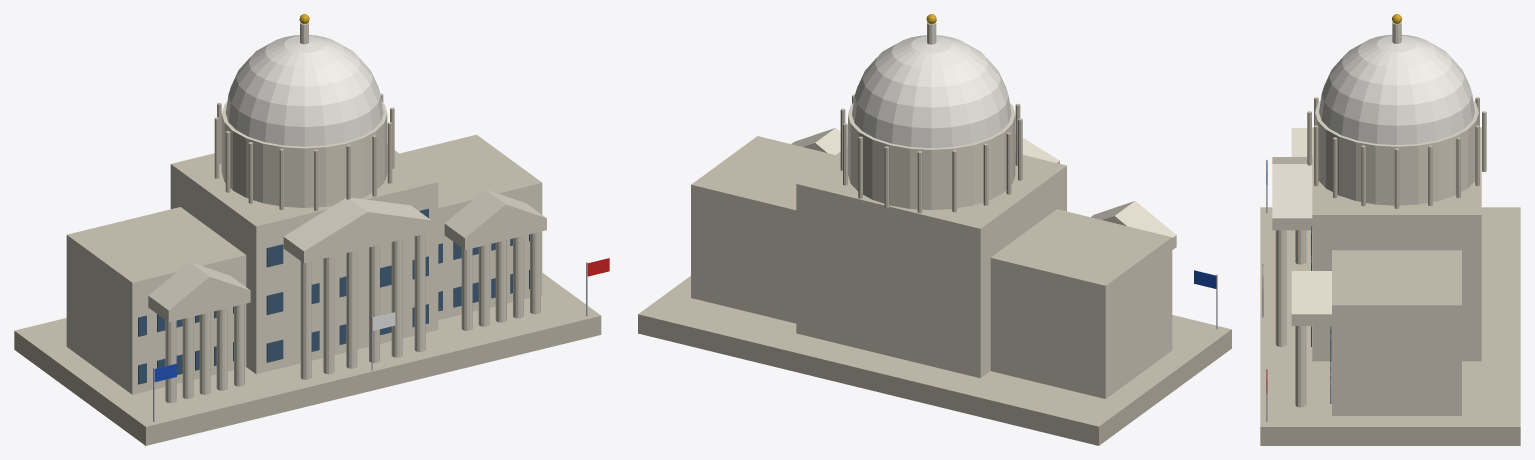
Rendered from gov_hall3.glb.
The picture shows the model from 3 angles, left to right: view 1: azimuth 30°, elevation 25°; view 2: azimuth 150°, elevation 25°; view 3: azimuth 270°, elevation 25°; orthographic projection. The views are drawn at different scales.
Parts seen in each view (by area): view 1: box; view 2: box; view 3: box.
Part boxes in pixels (left/top/right/bottom): box: left=14, top=14, right=609, bottom=445; box: left=638, top=14, right=1231, bottom=445; box: left=1260, top=14, right=1520, bottom=445.
Bounding box in the file's own units: 41 × 27.3 × 20.
